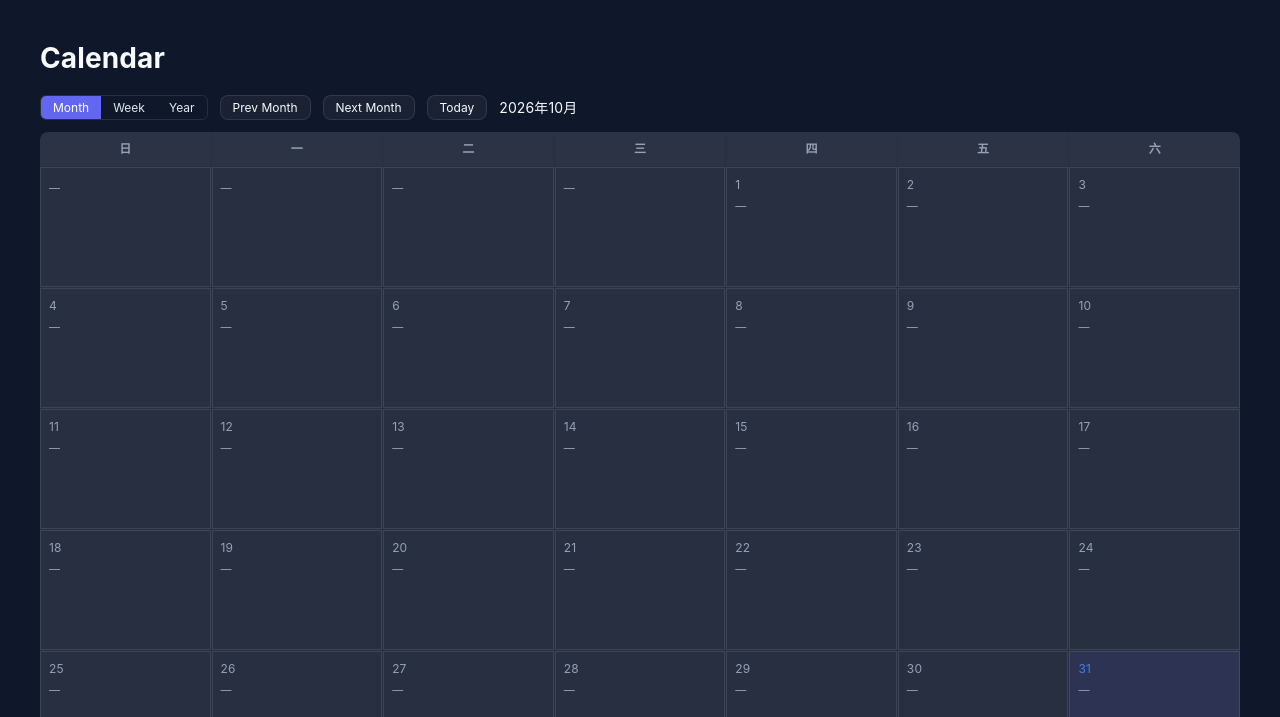
CalendarViewPage (C3) › 年份视图渲染 12 个月份
Click the button "Year".
click(182, 108)  # box [157,96,207,119]
(page scrolled)
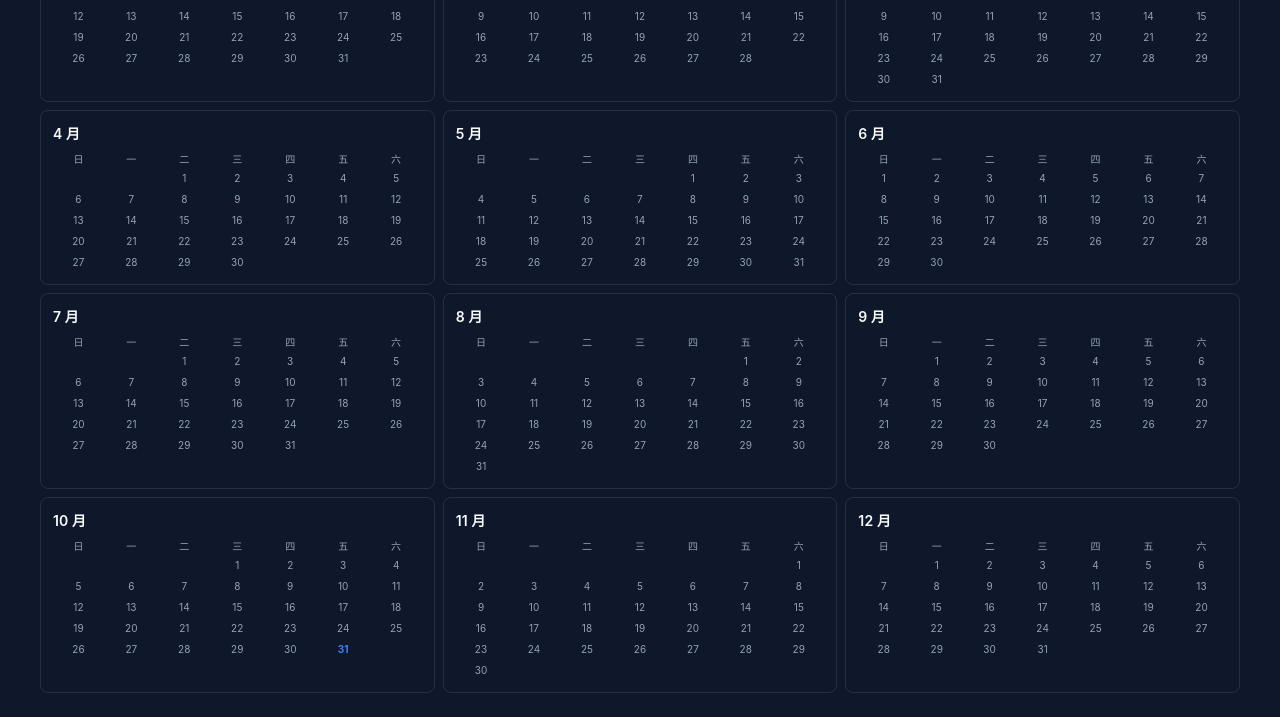
Now the text "12 月" is shown, box [858,512,891,529]
